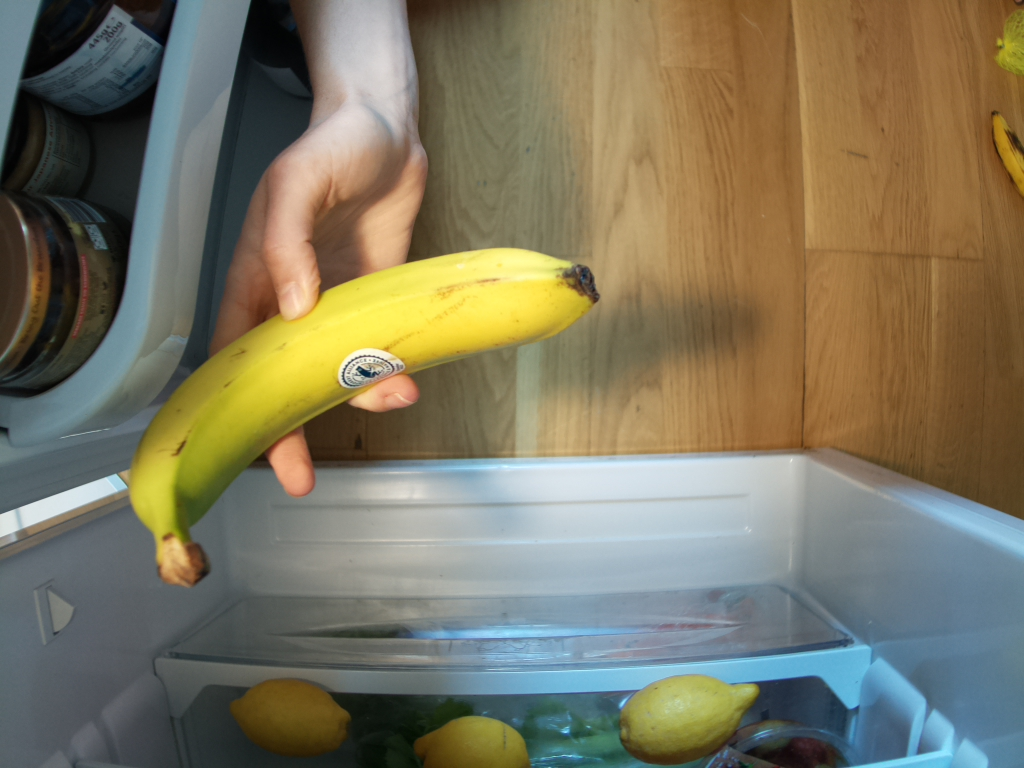banana-unripe: (126, 245, 603, 582)
